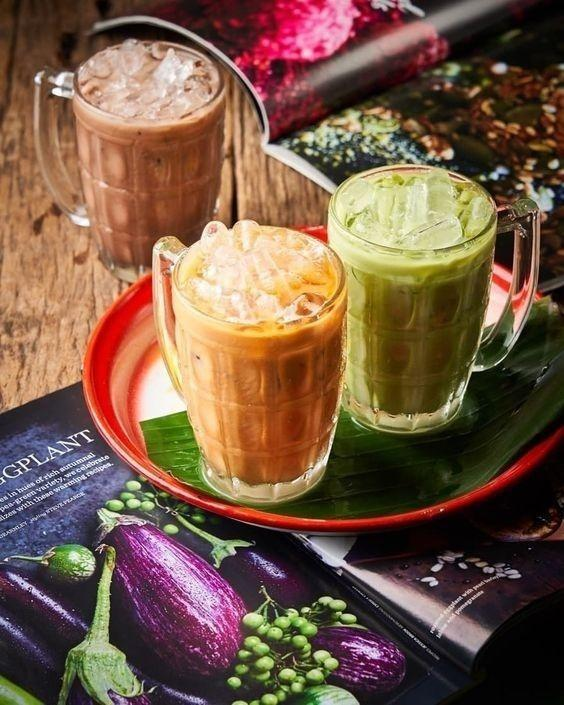glass-mug: (145, 214, 353, 506), (325, 160, 543, 437), (31, 19, 233, 285)
